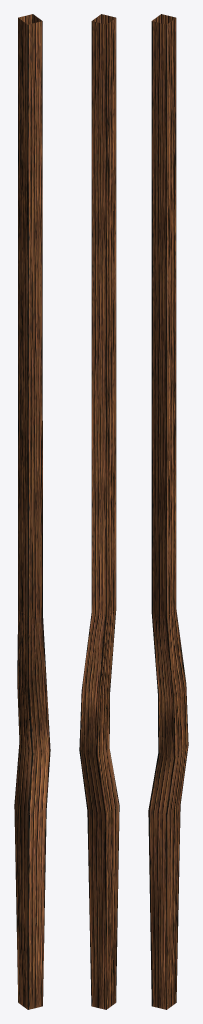
The model's file is LAKETOWN_PUB_PS_PUB_CEILING_POLE373765.fbx.
3 views of the same model, side by side, from view 1: azimuth 30°, elevation 25°; view 2: azimuth 150°, elevation 25°; view 3: azimuth 330°, elevation 25° (orthographic).
Parts seen in each view (by area): view 1: LAKETOWN_PUB_PS_PUB_CEILING_POLE373765; view 2: LAKETOWN_PUB_PS_PUB_CEILING_POLE373765; view 3: LAKETOWN_PUB_PS_PUB_CEILING_POLE373765.
Boxes of the visible parts, left/top/right/bottom form: LAKETOWN_PUB_PS_PUB_CEILING_POLE373765: left=14, top=14, right=50, bottom=1009; LAKETOWN_PUB_PS_PUB_CEILING_POLE373765: left=79, top=14, right=119, bottom=1009; LAKETOWN_PUB_PS_PUB_CEILING_POLE373765: left=148, top=14, right=188, bottom=1009.
Bounding box in the file's own units: 2373 × 90875 × 2665.
Materials: 1 (1 with a texture image).
